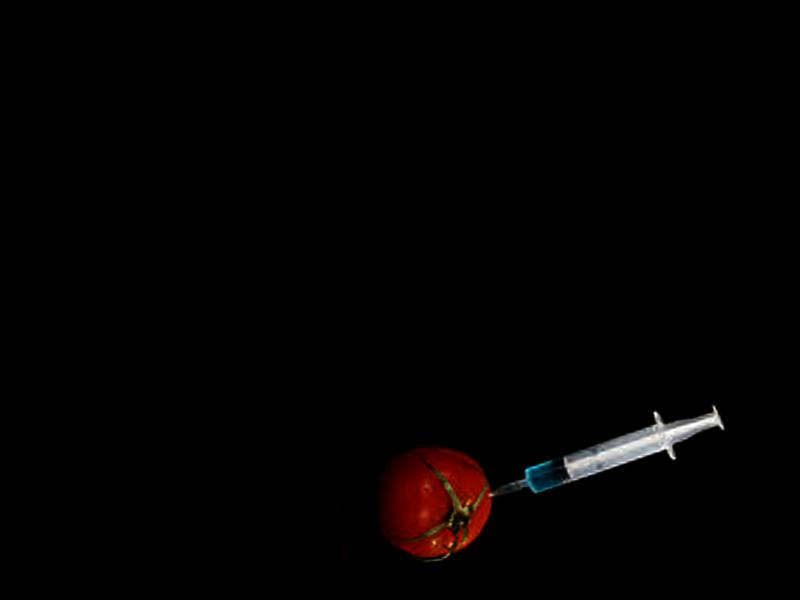Tomato: (373, 439, 498, 565)
